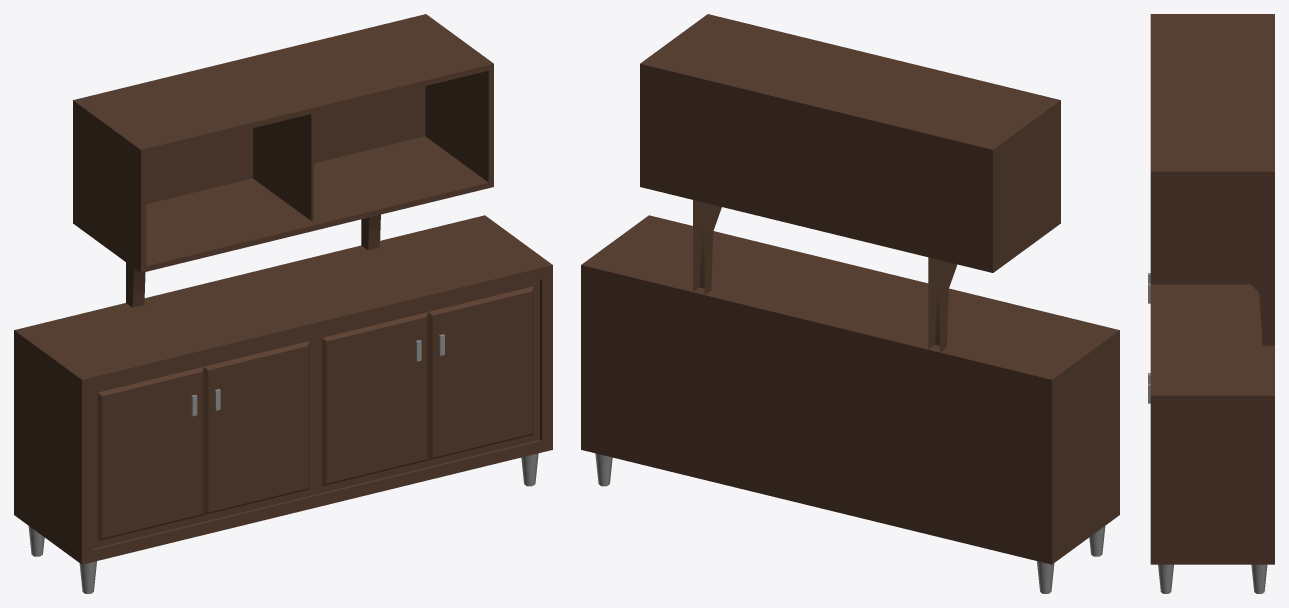
The model's file is Mesh_Vitrina.fbx.
The picture shows the model from 3 angles, left to right: view 1: azimuth 30°, elevation 25°; view 2: azimuth 150°, elevation 25°; view 3: azimuth 270°, elevation 25°; orthographic projection. The views are drawn at different scales.
Parts seen in each view (by area): view 1: Mesh_Vitrina; view 2: Mesh_Vitrina; view 3: Mesh_Vitrina.
Part boxes in pixels (box(x1,y1,x2,y2)): Mesh_Vitrina: box(14, 14, 552, 593); Mesh_Vitrina: box(581, 14, 1119, 593); Mesh_Vitrina: box(1148, 14, 1274, 593).
Bounding box in the file's own units: 160 × 142 × 40.8.
